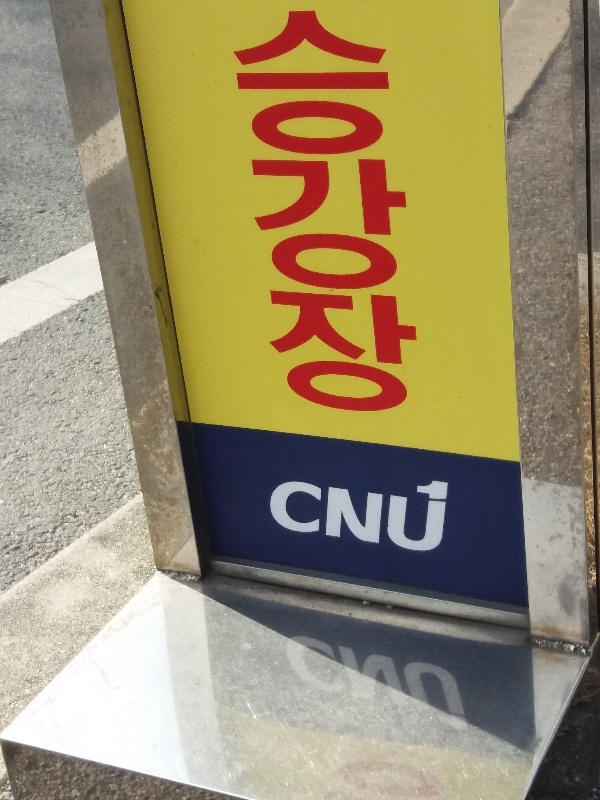text: (241, 8, 256, 420), (257, 8, 272, 420), (273, 8, 288, 420), (289, 8, 304, 420), (305, 8, 320, 420), (321, 8, 336, 420), (337, 8, 352, 420), (353, 8, 368, 420), (369, 8, 384, 420), (385, 8, 400, 420), (401, 8, 416, 420), (417, 8, 430, 420), (228, 8, 240, 420), (273, 474, 288, 564), (289, 474, 304, 564), (305, 474, 320, 564), (321, 474, 336, 564), (337, 474, 352, 564), (353, 474, 368, 564), (369, 474, 384, 564), (385, 474, 400, 564), (401, 474, 416, 564), (417, 474, 432, 564), (433, 474, 448, 564), (268, 474, 272, 564), (449, 474, 453, 564)
